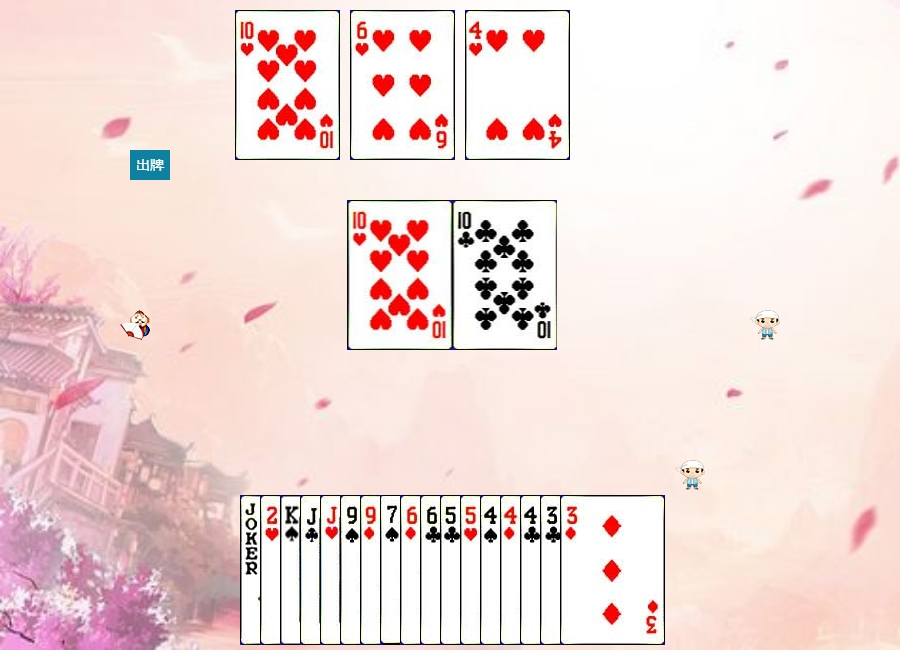10~2: (453, 200, 558, 350)
10~3: (235, 10, 340, 160), (348, 200, 453, 350)
11~2: (300, 495, 405, 645)
11~3: (320, 495, 425, 645)
13~4: (280, 495, 385, 645)
15~3: (260, 495, 365, 645)
17~3: (240, 495, 345, 645)
3~1: (560, 495, 665, 645)
3~2: (540, 495, 645, 645)
4~1: (500, 495, 605, 645)
4~2: (520, 495, 625, 645)
4~3: (465, 10, 570, 160)
4~4: (480, 495, 585, 645)
5~2: (440, 495, 545, 645)
5~3: (460, 495, 565, 645)
6~1: (400, 495, 505, 645)
6~2: (420, 495, 525, 645)
6~3: (350, 10, 455, 160)
7~4: (380, 495, 485, 645)
9~1: (360, 495, 465, 645)
9~4: (340, 495, 445, 645)
